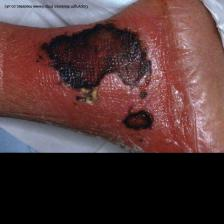Wound: (43, 19, 163, 103), (118, 106, 166, 129)
